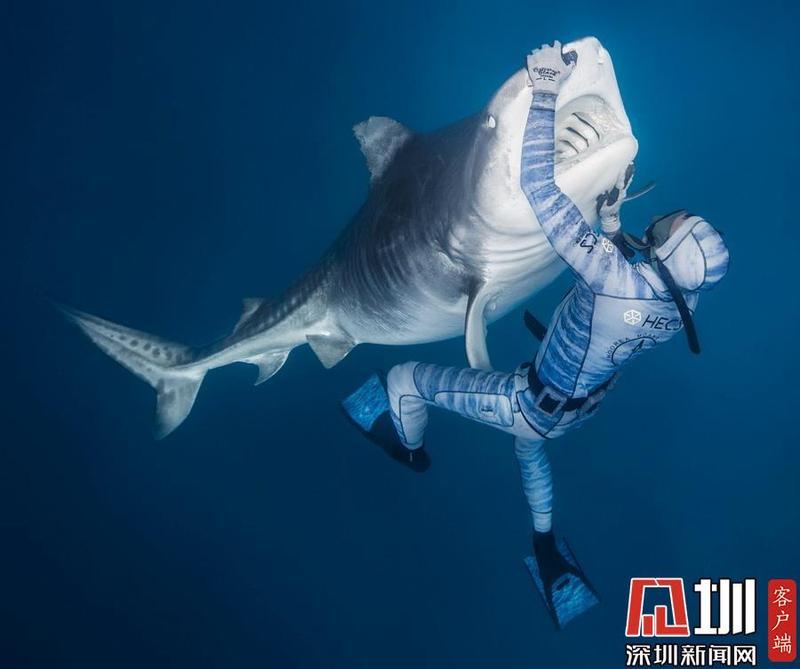shark: (52, 33, 665, 453)
